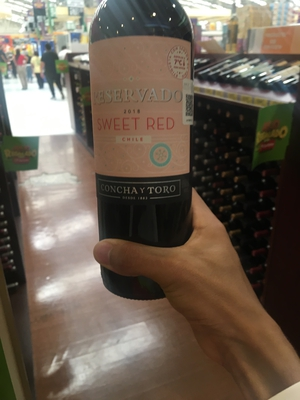reservado sweet red: (80, 7, 208, 280)
